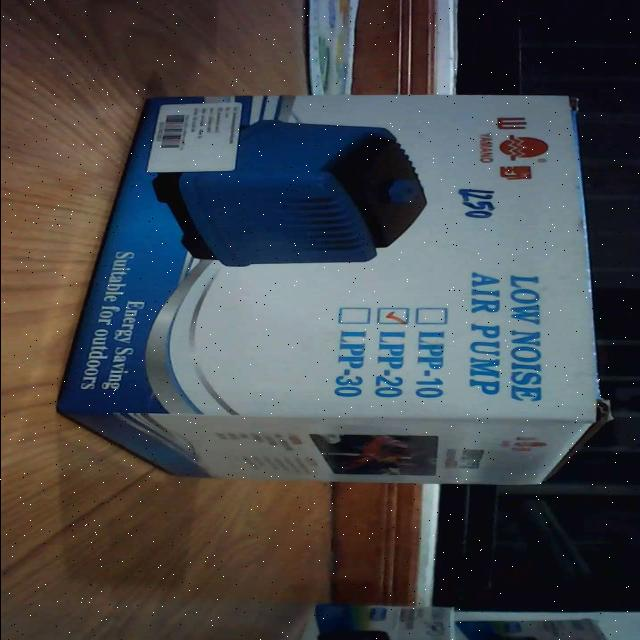YAMANO_LPP_20: (41, 86, 617, 493)
